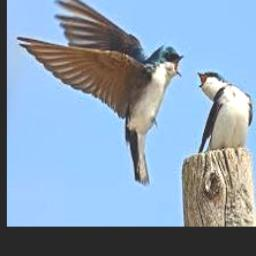Swallow: (17, 0, 185, 187), (198, 70, 254, 153)
